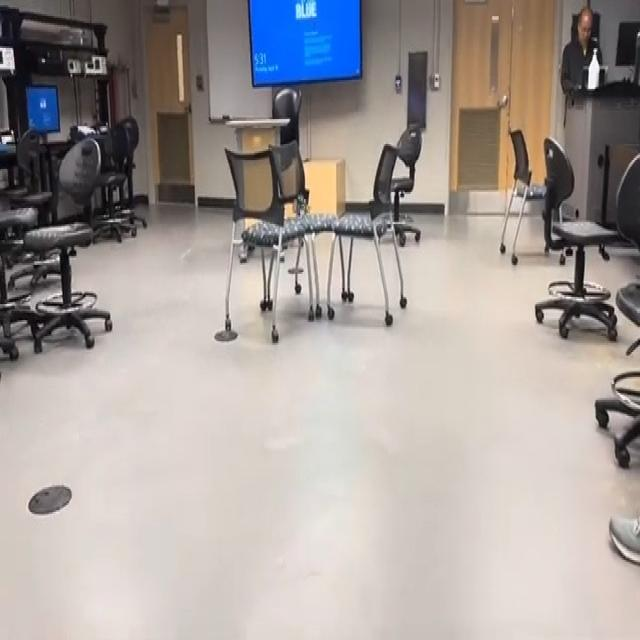drone: (289, 186, 314, 221)
